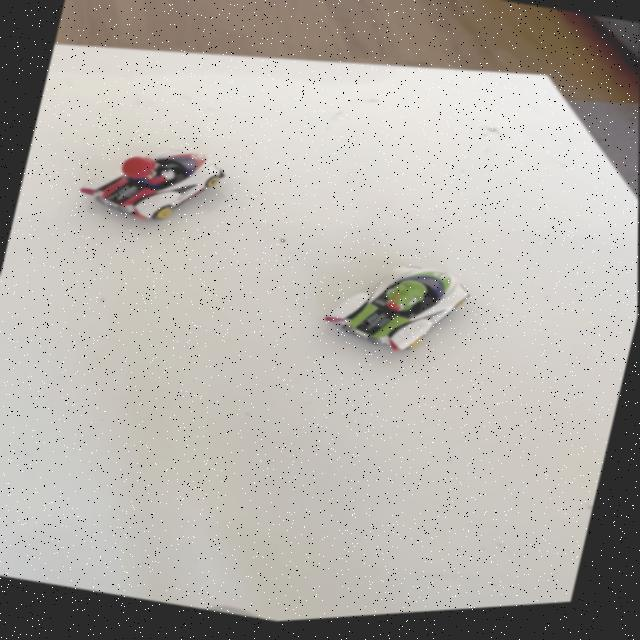mario: (65, 128, 239, 253)
yoshi: (310, 243, 494, 384)
